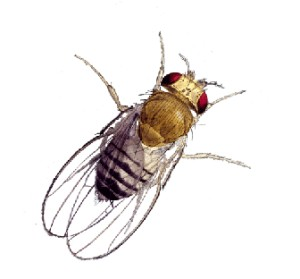Fruit fly: (56, 41, 238, 256)
